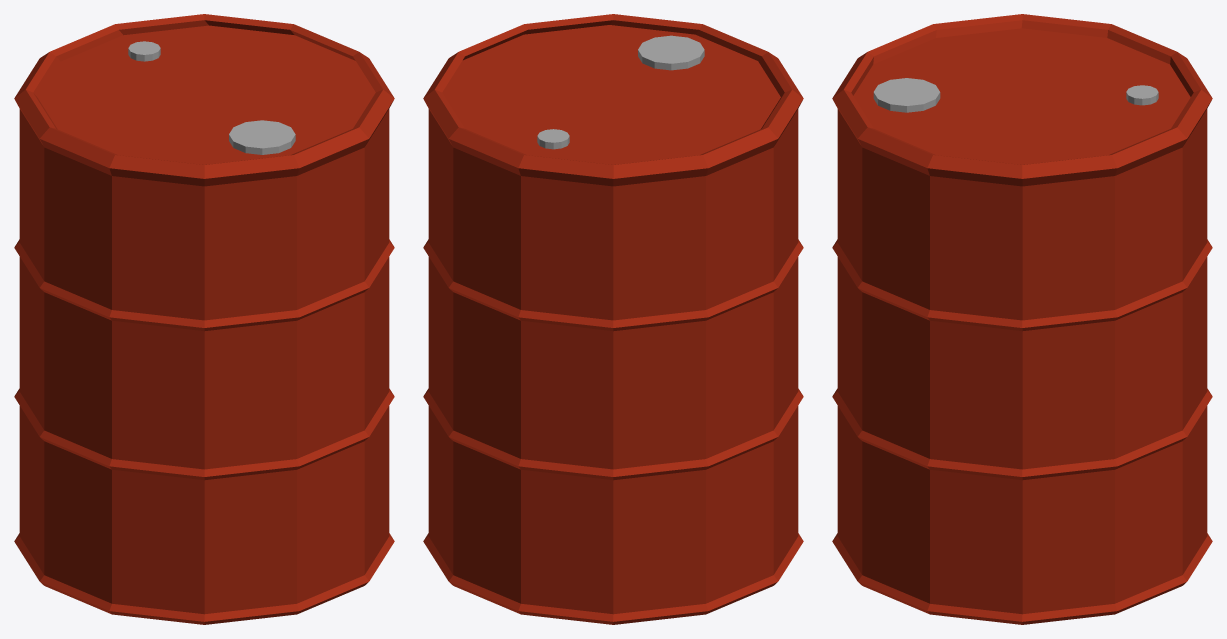
The model's file is Red_Drum.fbx.
The picture shows the model from 3 angles, left to right: view 1: azimuth 30°, elevation 25°; view 2: azimuth 150°, elevation 25°; view 3: azimuth 270°, elevation 25°; orthographic projection.
Visible parts, largest first — view 1: Cylinder.001; view 2: Cylinder.001; view 3: Cylinder.001.
Boxes of the visible parts, left/top/right/bottom form: Cylinder.001: left=14, top=14, right=394, bottom=624; Cylinder.001: left=423, top=14, right=803, bottom=624; Cylinder.001: left=832, top=14, right=1212, bottom=624.
Bounding box in the file's own units: 77.16 × 102 × 77.16.
